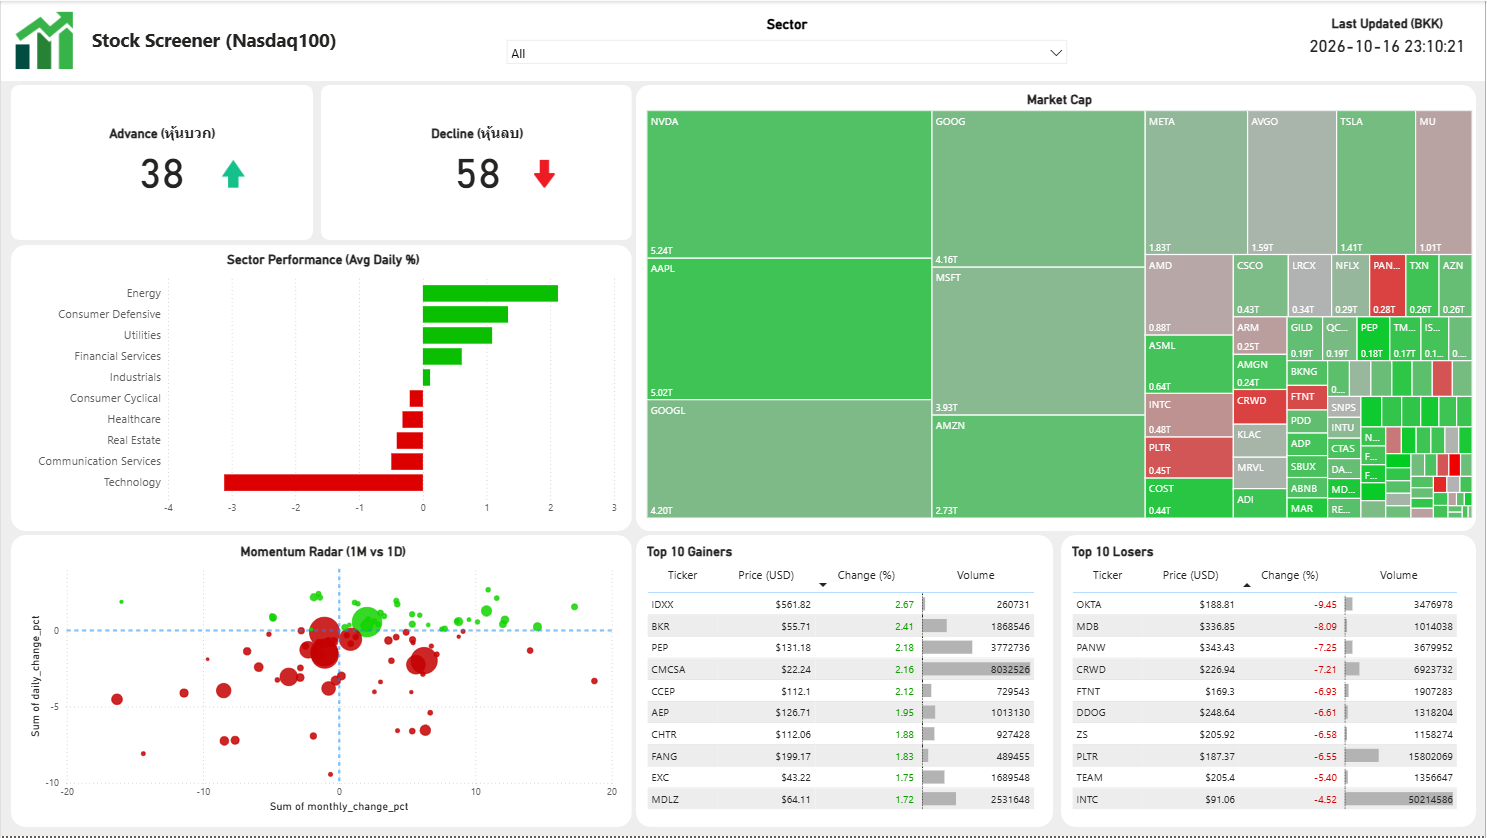

This screenshot's page, from the dashboard's own definition file:
{"tool":"powerbi","page":{"name":"Page 1","canvas":[1920,1080],"ordinal":0},"visuals":[{"type":"shape","box":[12.9,690.9,803.5,377.8],"z":0},{"type":"shape","box":[12.9,315.7,803.5,370],"z":1000},{"type":"shape","box":[414,108.7,402.4,200.5],"z":2000},{"type":"shape","box":[12.9,108.7,390.7,200.5],"z":3000},{"type":"shape","box":[1371.4,690.9,536.9,377.8],"z":4000},{"type":"shape","box":[821.6,690.9,539.5,377.8],"z":5000},{"type":"shape","box":[821.6,108.7,1086.8,577],"z":6000},{"type":"shape","box":[0,0,1920,103.5],"z":7000},{"type":"tableEx","title":"Top 10 Gainers","fields":{"Values":["public nasdaq100_summary.ticker","Sum(public nasdaq100_summary.current_price)","Sum(public nasdaq100_summary.daily_change_pct)","Sum(public nasdaq100_summary.current_volume)"]},"box":[830.6,702.5,517.5,366.1],"z":8000},{"type":"tableEx","title":"Top 10 Losers","fields":{"Values":["public nasdaq100_summary.ticker","Sum(public nasdaq100_summary.current_price)","Sum(public nasdaq100_summary.daily_change_pct)","Sum(public nasdaq100_summary.current_volume)"]},"box":[1380.5,702.5,527.9,366.1],"z":9000},{"type":"treemap","title":"Market Cap","fields":{"Group":["public nasdaq100_summary.ticker"],"Values":["Sum(public nasdaq100_summary.market_cap)"]},"box":[830.6,117.7,1077.7,556.3],"z":10000},{"type":"slicer","title":"Sector","fields":{"Values":["public nasdaq100_summary.sector"]},"box":[644.3,19.4,745.2,64.7],"z":11000},{"type":"card","title":"Last Updated (BKK)","fields":{"Values":["Min(public nasdaq100_summary.last_updated)"]},"box":[1666.4,19.4,253.6,63.4],"z":12000},{"type":"card","title":"Advance (หุ้นบวก)","fields":{"Values":["public nasdaq100_summary.Gainers_Count"]},"box":[22,157.8,372.6,103.5],"z":13000},{"type":"card","title":"Decline (หุ้นลบ)","fields":{"Values":["public nasdaq100_summary.Losers_Count"]},"box":[429.5,157.8,372.6,103.5],"z":14000},{"type":"barChart","title":"Sector Performance (Avg Daily %)","fields":{"Category":["public nasdaq100_summary.sector"],"Y":["Avg(public nasdaq100_summary.daily_change_pct)"]},"box":[31.1,324.7,771.1,349.3],"z":15000},{"type":"scatterChart","title":"Momentum Radar (1M vs 1D)","fields":{"X":["Sum(public nasdaq100_summary.monthly_change_pct)"],"Y":["Sum(public nasdaq100_summary.daily_change_pct)"],"Category":["public nasdaq100_summary.ticker"],"Size":["Sum(public nasdaq100_summary.market_cap)"]},"box":[31.1,702.5,771.1,351.9],"z":16000},{"type":"image","box":[12.9,9.1,86.7,84.1],"z":19000},{"type":"textbox","box":[100.1,27.9,352.4,45.6],"z":20000},{"type":"image","box":[275.8,200.9,49.9,46],"z":20001},{"type":"image","box":[673.7,200.9,57.8,46],"z":20002}]}

Visuals, with their boxes in screenshot pixels (x1, y1, x2, y2), scaled from the page's 1920x1080 canvas onto the 1487x838 screenshot:
shape: bbox=[10, 536, 632, 829]
shape: bbox=[10, 245, 632, 532]
shape: bbox=[321, 84, 632, 240]
shape: bbox=[10, 84, 313, 240]
shape: bbox=[1062, 536, 1478, 829]
shape: bbox=[636, 536, 1054, 829]
shape: bbox=[636, 84, 1478, 532]
shape: bbox=[0, 0, 1486, 80]
"Top 10 Gainers" tableEx: bbox=[643, 545, 1044, 829]
"Top 10 Losers" tableEx: bbox=[1069, 545, 1478, 829]
"Market Cap" treemap: bbox=[643, 91, 1478, 523]
"Sector" slicer: bbox=[499, 15, 1076, 65]
"Last Updated (BKK)" card: bbox=[1291, 15, 1486, 64]
"Advance (หุ้นบวก)" card: bbox=[17, 122, 306, 203]
"Decline (หุ้นลบ)" card: bbox=[333, 122, 621, 203]
"Sector Performance (Avg Daily %)" barChart: bbox=[24, 252, 621, 523]
"Momentum Radar (1M vs 1D)" scatterChart: bbox=[24, 545, 621, 818]
image: bbox=[10, 7, 77, 72]
textbox: bbox=[78, 22, 350, 57]
image: bbox=[214, 156, 252, 192]
image: bbox=[522, 156, 567, 192]
